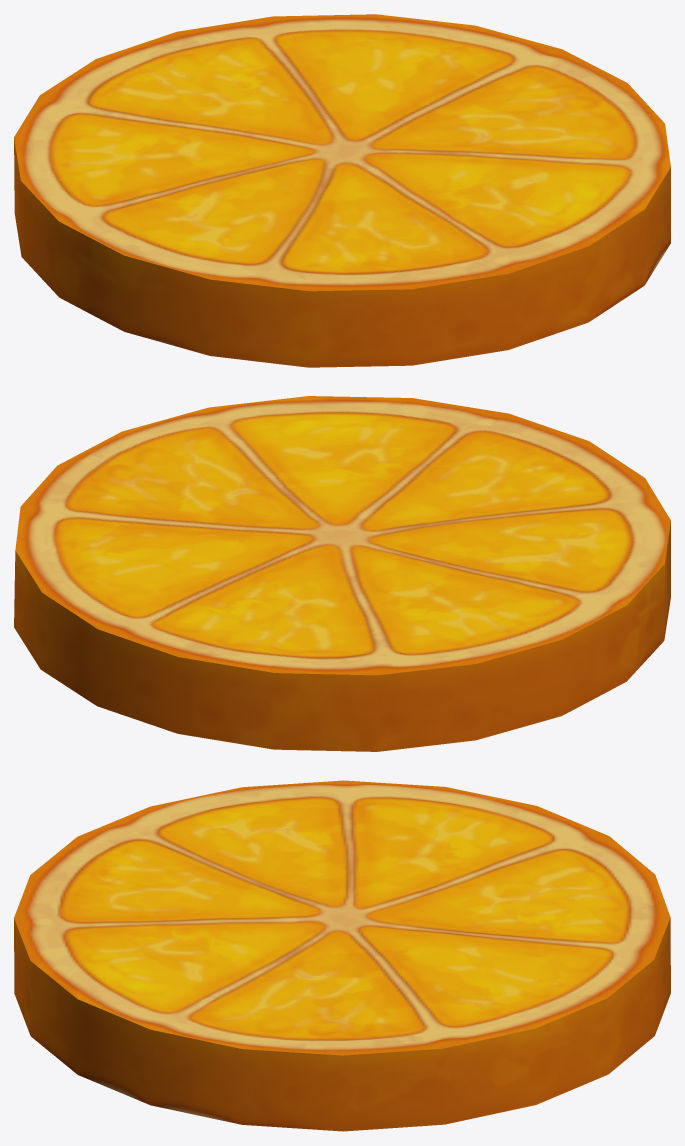
File: SM_OrangeCut.fbx
3 renders of one model, top to bottom at view 1: azimuth 30°, elevation 25°; view 2: azimuth 150°, elevation 25°; view 3: azimuth 270°, elevation 25°, orthographic.
Visible parts, largest first — view 1: SM_OrangeCut; view 2: SM_OrangeCut; view 3: SM_OrangeCut.
Part boxes in pixels (x1=…): SM_OrangeCut: x1=14, y1=14, x2=670, y2=367; SM_OrangeCut: x1=14, y1=396, x2=670, y2=751; SM_OrangeCut: x1=14, y1=780, x2=670, y2=1131.
Bounding box in the file's own units: 17.34 × 2.23 × 17.49.
